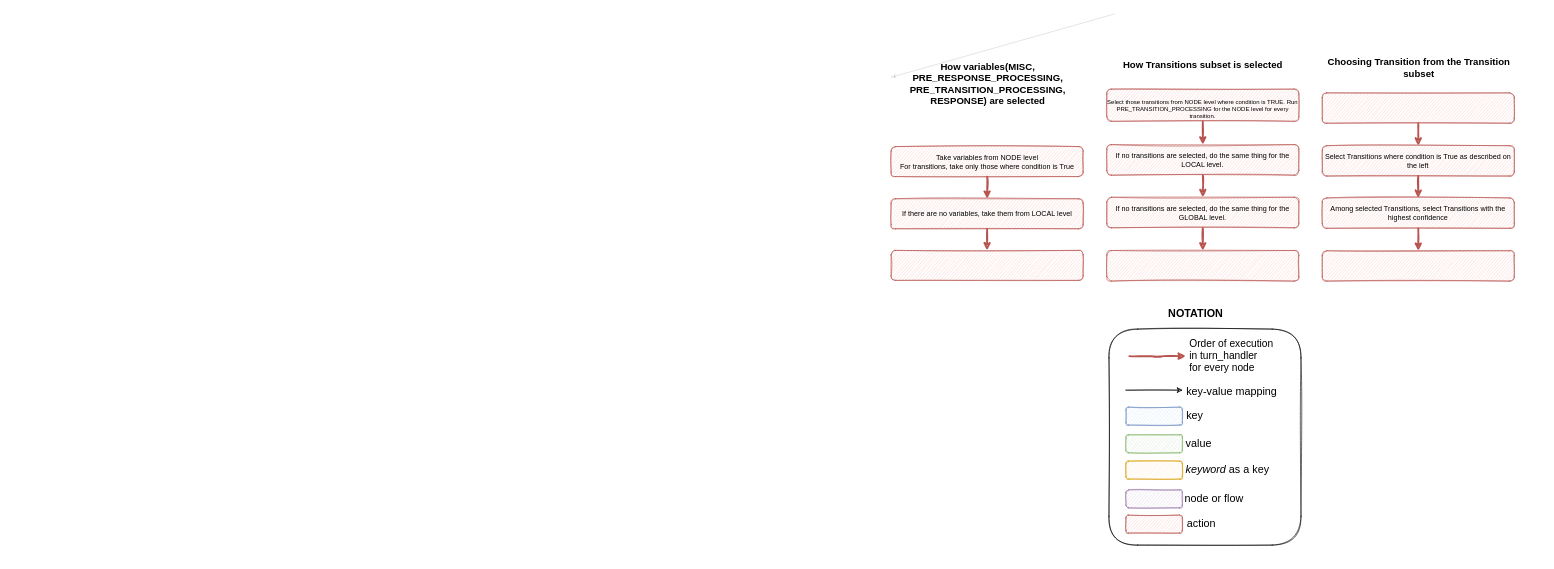
This 1554x569 diagram has some shape labels left out. Here are the shapes that lost their labels. From the top down, the centre of each, then its label:
At pixel 1418 107: "Run all PRE_TRANSITION_PROCESSINGS for all available Transitions.".
At pixel 987 265: "If there are still no variables, take them from GLOBAL level".
At pixel 1202 265: "If no transitions are selected, go to the FALLBACK node.".
At pixel 1418 265: "Among selected Transitions, select the Transition that is first in dictionary".
